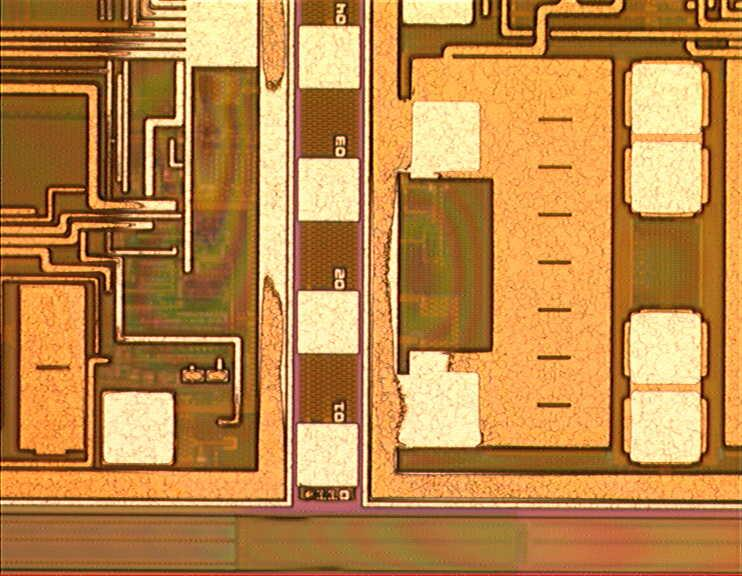COATING BAD: (2, 1, 742, 576)
